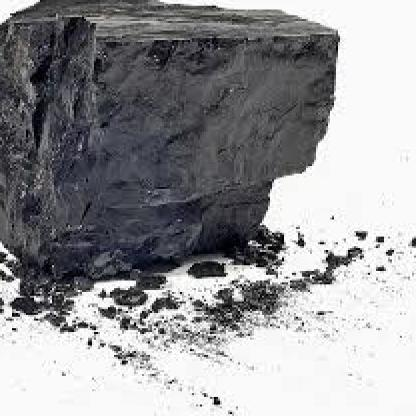Sedimentary_coal: (0, 0, 356, 281)
